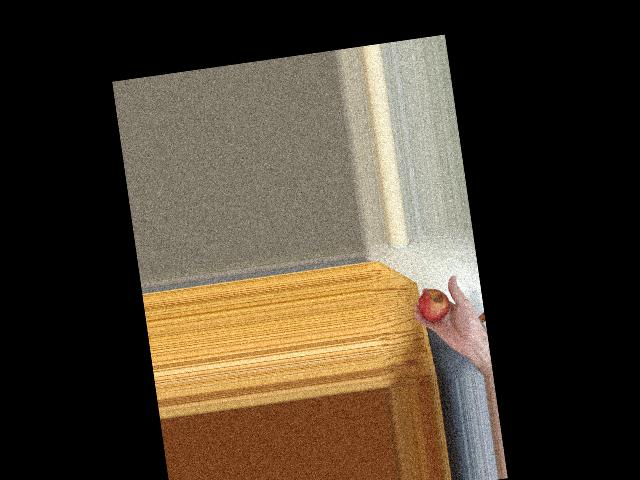apple: (416, 285, 454, 326)
